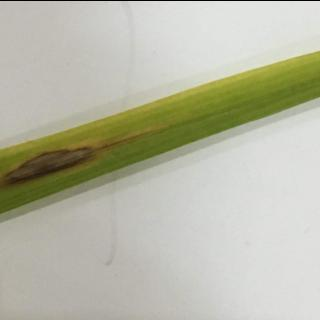Blast: (0, 128, 164, 179)
